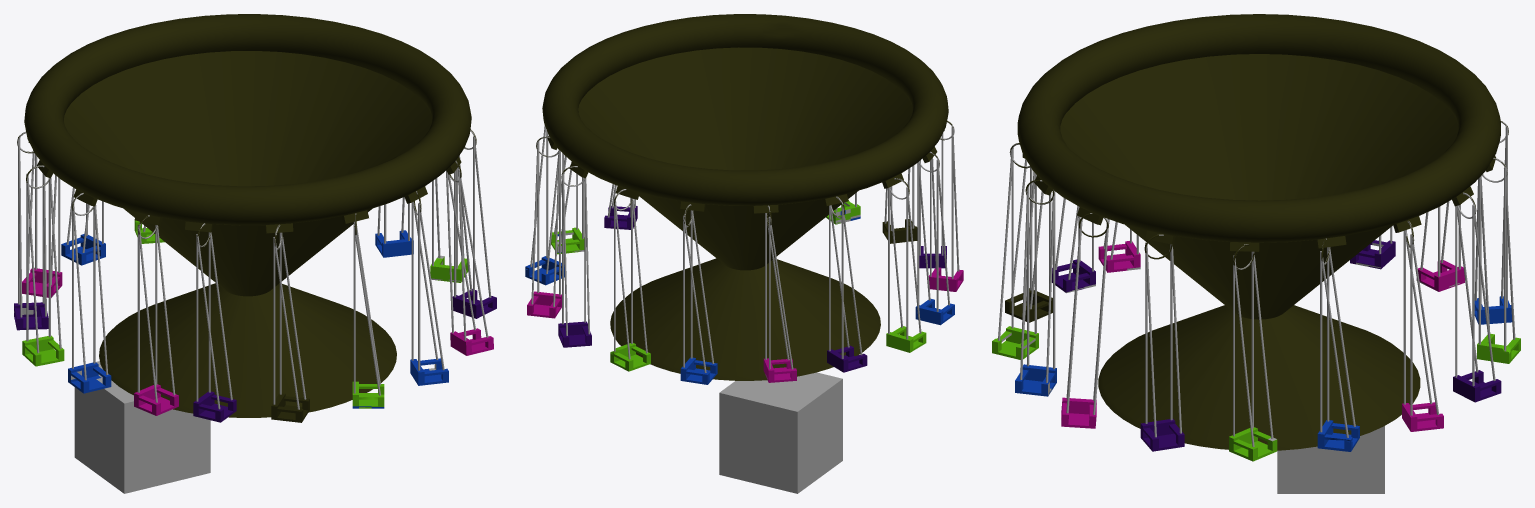
File: Silla.obj
3 renders of one model, left to right at view 1: azimuth 30°, elevation 25°; view 2: azimuth 150°, elevation 25°; view 3: azimuth 270°, elevation 25°, orthographic. The views are drawn at different scales.
Visible parts, largest first — view 1: polySurface349_polySurface349_Asieto5, polySurface349_polySurface349_initialShadingGroup, Cube, polySurface349_polySurface349_Asiento2, polySurface349_polySurface349_Asiento1, polySurface349_polySurface349_Asiento3, polySurface349_polySurface349_Asiento4; view 2: polySurface349_polySurface349_Asieto5, polySurface349_polySurface349_initialShadingGroup, Cube, polySurface349_polySurface349_Asiento4, polySurface349_polySurface349_Asiento1, polySurface349_polySurface349_Asiento2, polySurface349_polySurface349_Asiento3; view 3: polySurface349_polySurface349_Asieto5, polySurface349_polySurface349_initialShadingGroup, Cube, polySurface349_polySurface349_Asiento4, polySurface349_polySurface349_Asiento3, polySurface349_polySurface349_Asiento1, polySurface349_polySurface349_Asiento2.
Part boxes in pixels (x1,y1,x2,y2): polySurface349_polySurface349_Asieto5: (17, 14, 476, 422); polySurface349_polySurface349_initialShadingGroup: (17, 130, 491, 409); Cube: (74, 361, 210, 493); polySurface349_polySurface349_Asiento2: (61, 230, 448, 408); polySurface349_polySurface349_Asiento1: (22, 220, 468, 408); polySurface349_polySurface349_Asiento3: (22, 268, 493, 415); polySurface349_polySurface349_Asiento4: (14, 289, 496, 422); polySurface349_polySurface349_Asieto5: (536, 14, 953, 380); polySurface349_polySurface349_initialShadingGroup: (530, 122, 959, 372); Cube: (719, 372, 842, 493); polySurface349_polySurface349_Asiento4: (558, 206, 946, 372); polySurface349_polySurface349_Asiento1: (551, 200, 926, 371); polySurface349_polySurface349_Asiento2: (525, 210, 954, 384); polySurface349_polySurface349_Asiento3: (527, 267, 963, 382); polySurface349_polySurface349_Asieto5: (1005, 14, 1508, 450); polySurface349_polySurface349_initialShadingGroup: (998, 121, 1515, 446); Cube: (1277, 426, 1384, 493); polySurface349_polySurface349_Asiento4: (1052, 240, 1501, 451); polySurface349_polySurface349_Asiento3: (1061, 241, 1464, 431); polySurface349_polySurface349_Asiento1: (992, 326, 1520, 461); polySurface349_polySurface349_Asiento2: (1015, 296, 1512, 451).
Size of the model in its own units: 9.82 by 8.19 by 9.8.
